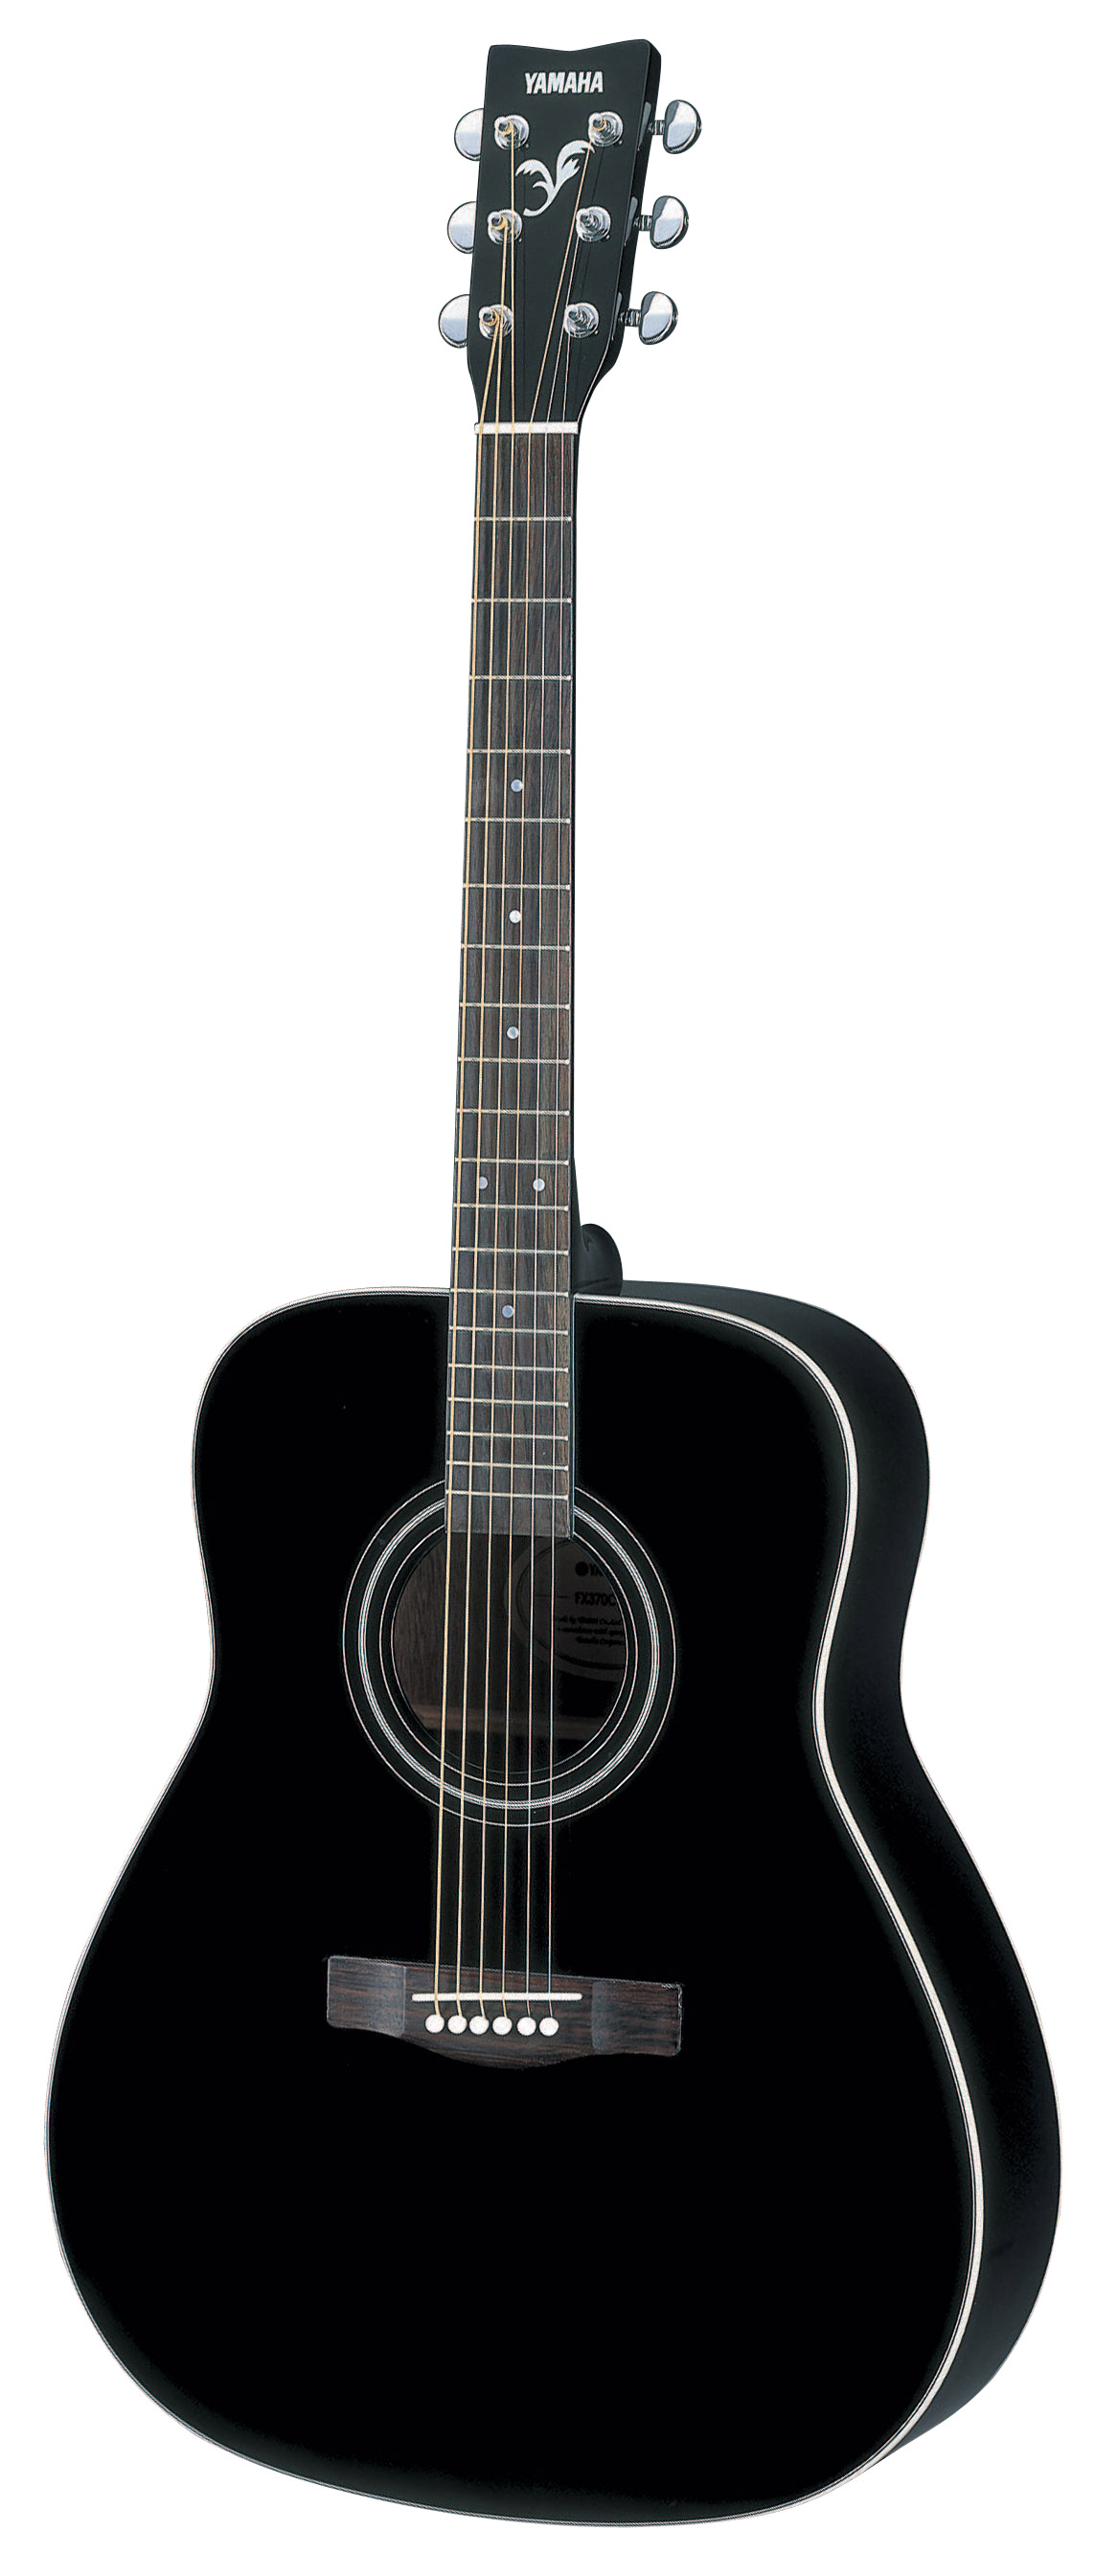guitar: (31, 36, 1064, 2527)
